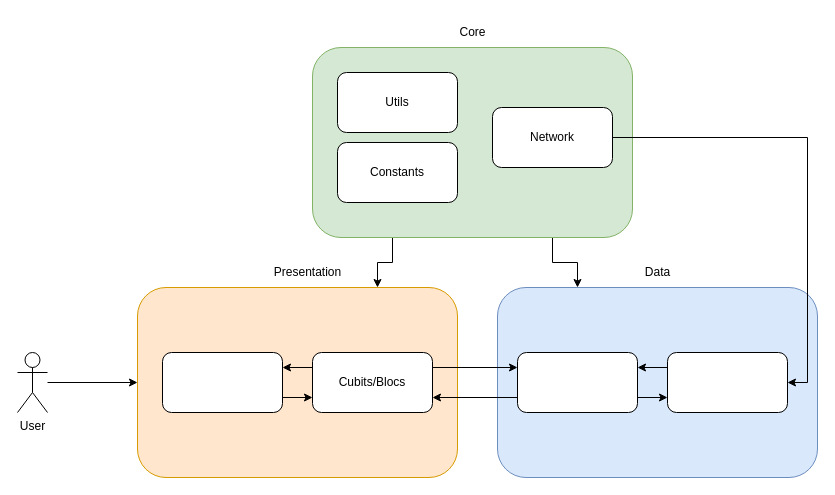
The diagram is 835 pixels wide and 495 high, and some of its shapes have lost their labels. Here are the shapes that lost their labels. From the top down, the box of each, then its label:
(162, 352, 282, 412): Views
(516, 352, 638, 412): Repositories
(666, 352, 788, 412): Data Sources
